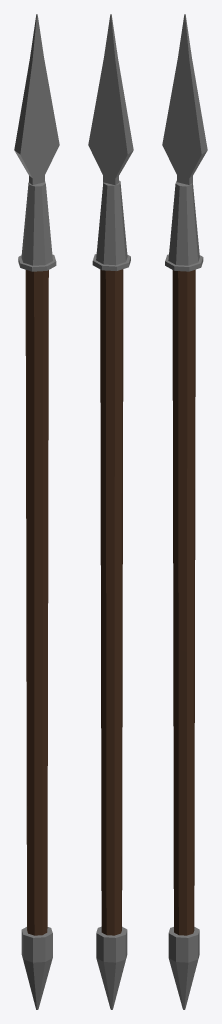
File: SM_spear_greek.fbx
The picture shows the model from 3 angles, left to right: view 1: azimuth 30°, elevation 25°; view 2: azimuth 150°, elevation 25°; view 3: azimuth 330°, elevation 25°; orthographic projection.
Visible parts, largest first — view 1: Cylinder009; view 2: Cylinder009; view 3: Cylinder009.
Part boxes in pixels (x1,y1,x2,y2): Cylinder009: (14,14,59,1009); Cylinder009: (88,14,133,1009); Cylinder009: (162,14,207,1009).
Size of the model in its own units: 3.38 by 81.41 by 2.92.
